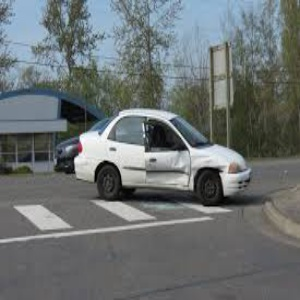door: (139, 151, 192, 189)
